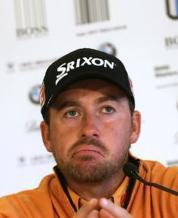face: (56, 101, 122, 159)
